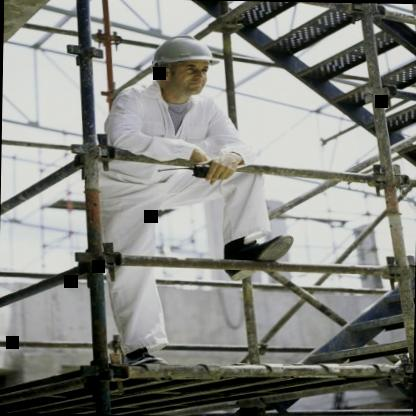helmet: (145, 29, 220, 104)
